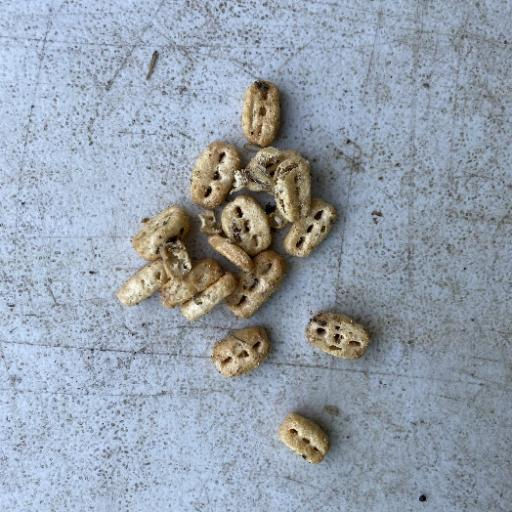Waste: (116, 77, 372, 465), (303, 310, 371, 360), (210, 325, 271, 379), (240, 78, 282, 149), (277, 411, 330, 465)
